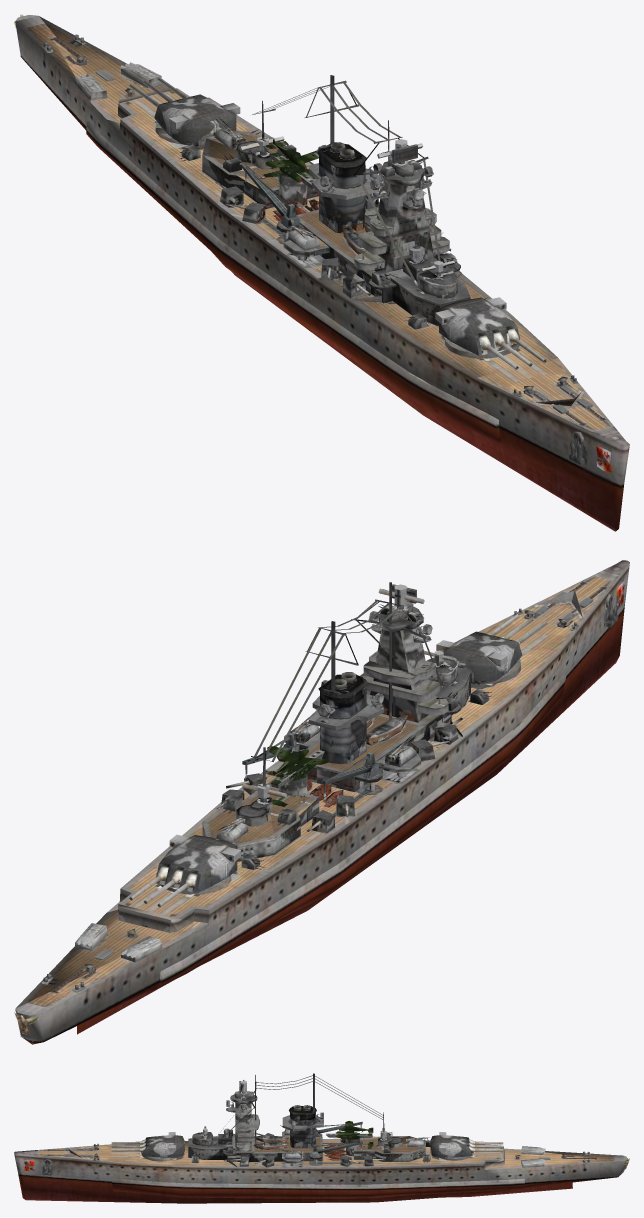
Rendered from realistic-by.76880fe3d732.cruiser.glb.
The picture shows the model from 3 angles, top to bottom: view 1: azimuth 30°, elevation 25°; view 2: azimuth 150°, elevation 25°; view 3: azimuth 270°, elevation 25°; orthographic projection. The views are drawn at different scales.
Visible parts, largest first — view 1: cruiser; view 2: cruiser; view 3: cruiser.
Part boxes in pixels (x1,y1,x2,y2): cruiser: (14, 14, 629, 531); cruiser: (14, 560, 629, 1044); cruiser: (14, 1073, 629, 1203).
Bounding box in the file's own units: 22.35 × 42.1 × 186.
1 material, 1 textured.
